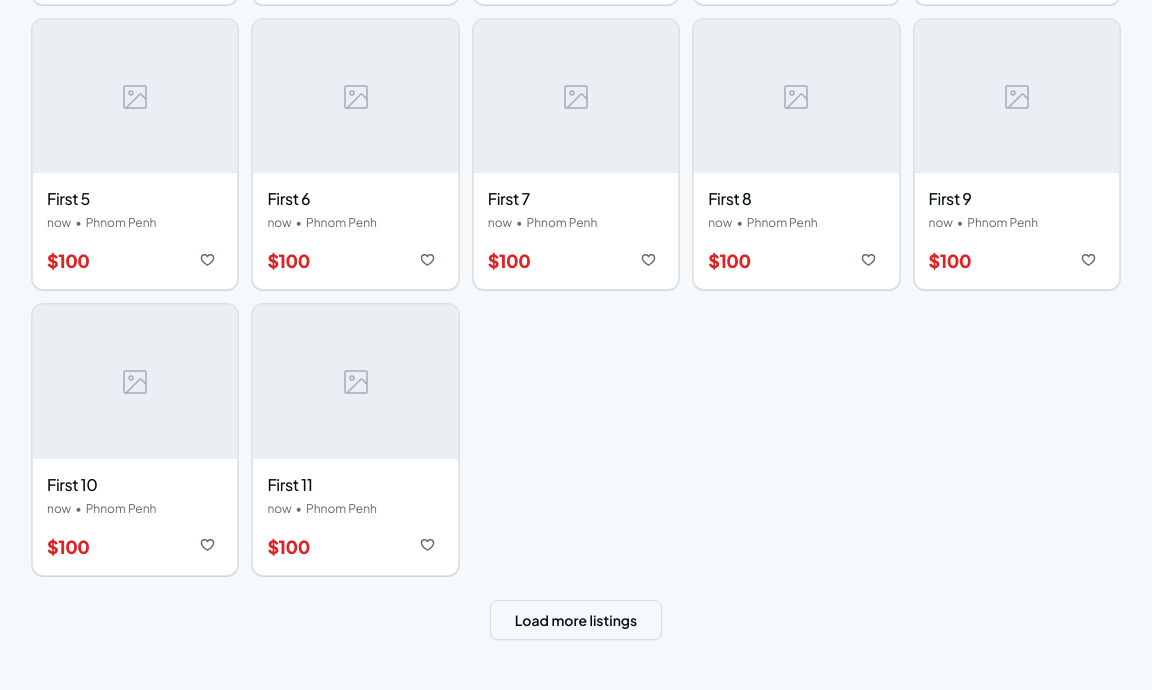
Test: seller listings › loads the next real page
This screenshot has width=1152, height=690.
(page scrolled)
Click the button "Load more listings" at x=576, y=620, box [490,600,662,640]
(page scrolled)
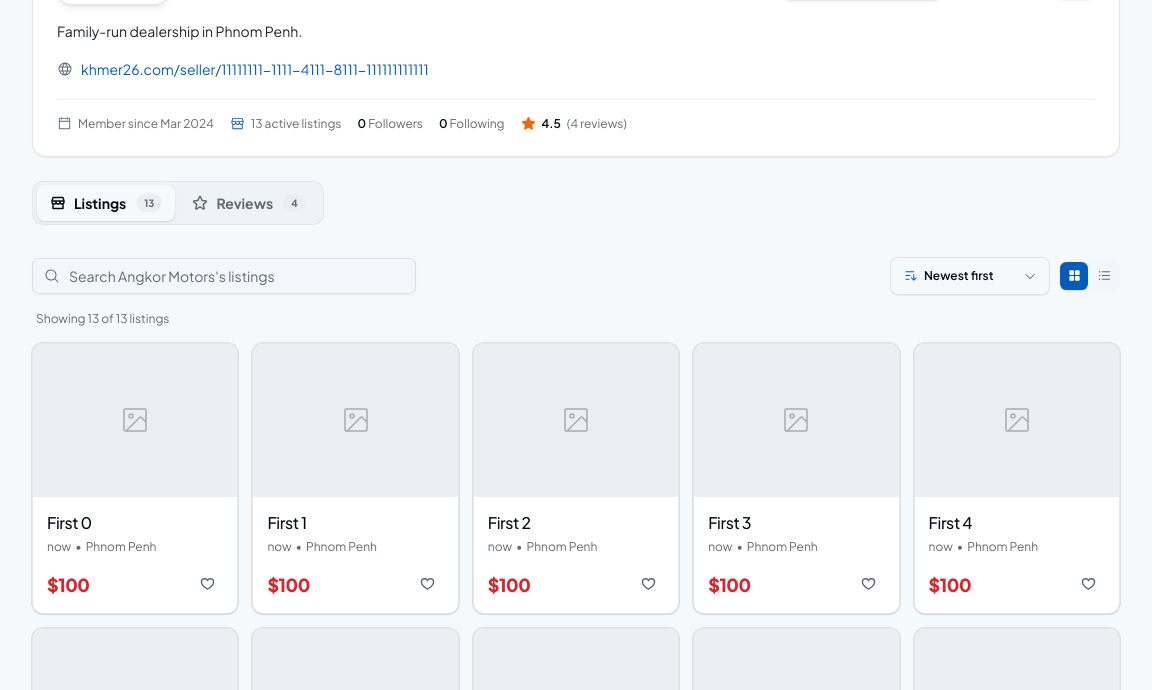
Now the text "Showing 13 of 13 listings" is shown, box [36,311,170,327]
Now the button "Load more listings" is gone
